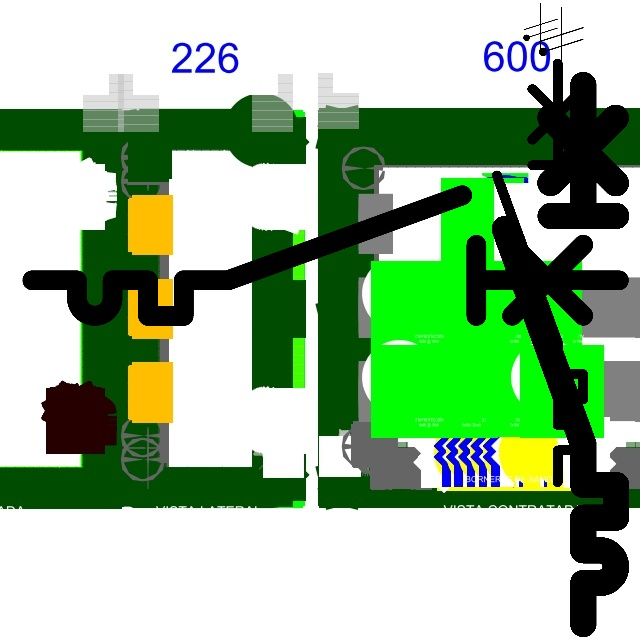interruptor_termomagnetico: (17, 180, 634, 331), (491, 71, 630, 638), (486, 52, 594, 492)
